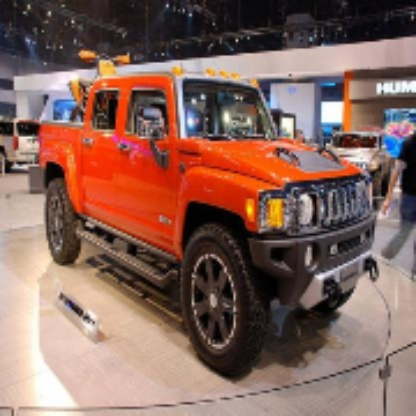Vehicle: (30, 67, 381, 380)
